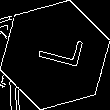L_W: (27, 33, 83, 77)
